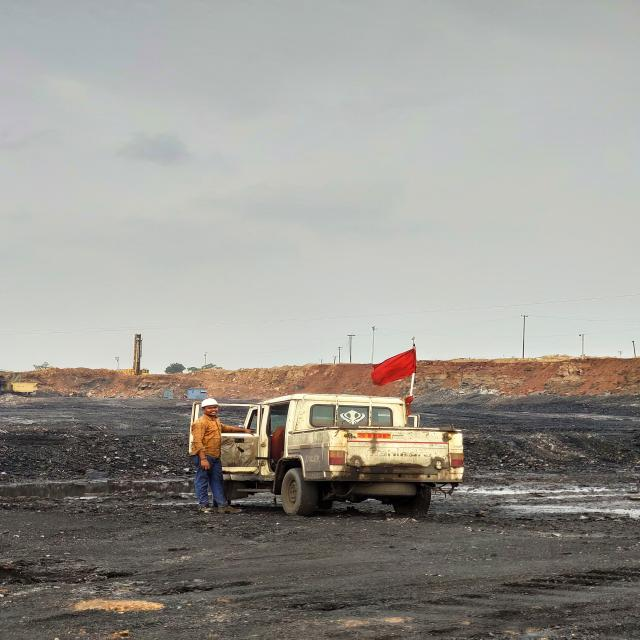dump_truck: (195, 395, 465, 518)
